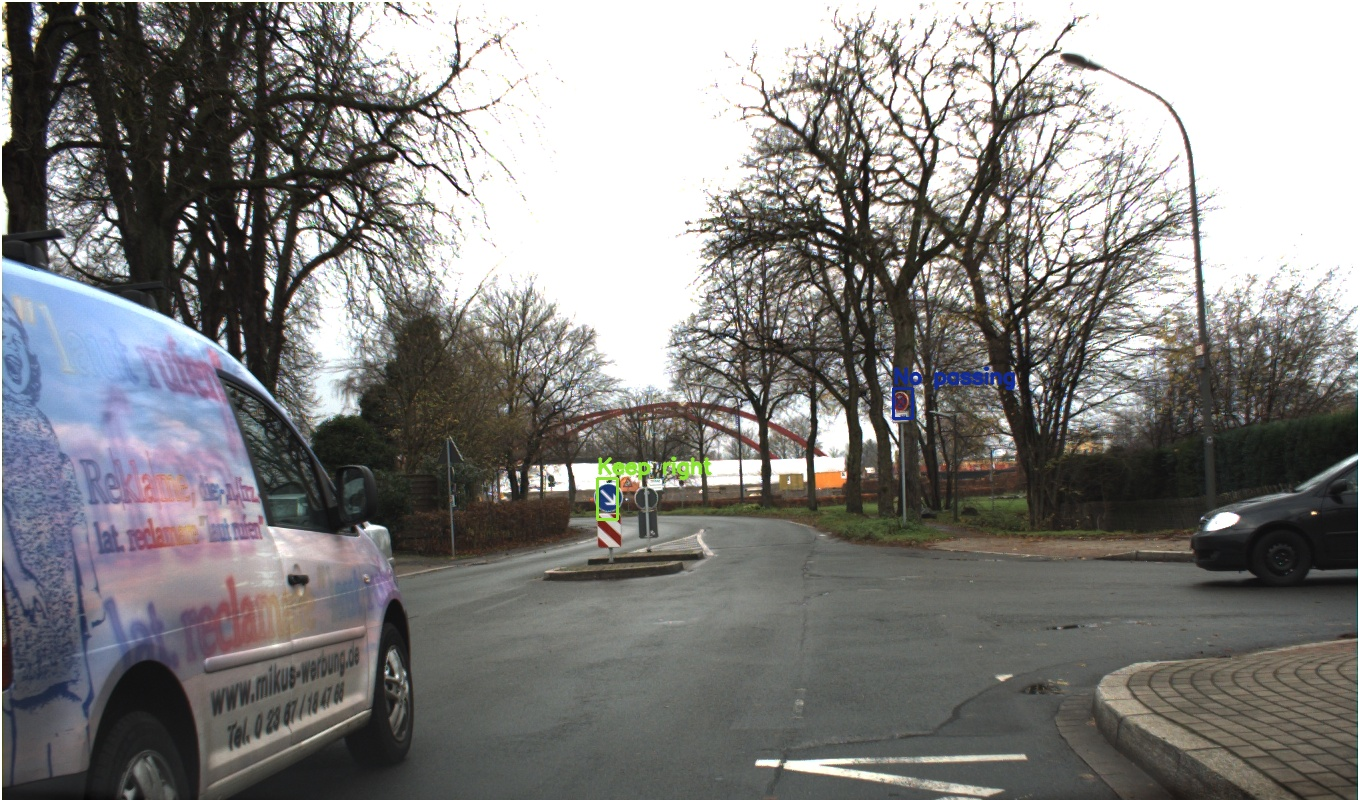Speed limit (50km/h): (838, 400, 880, 442)
